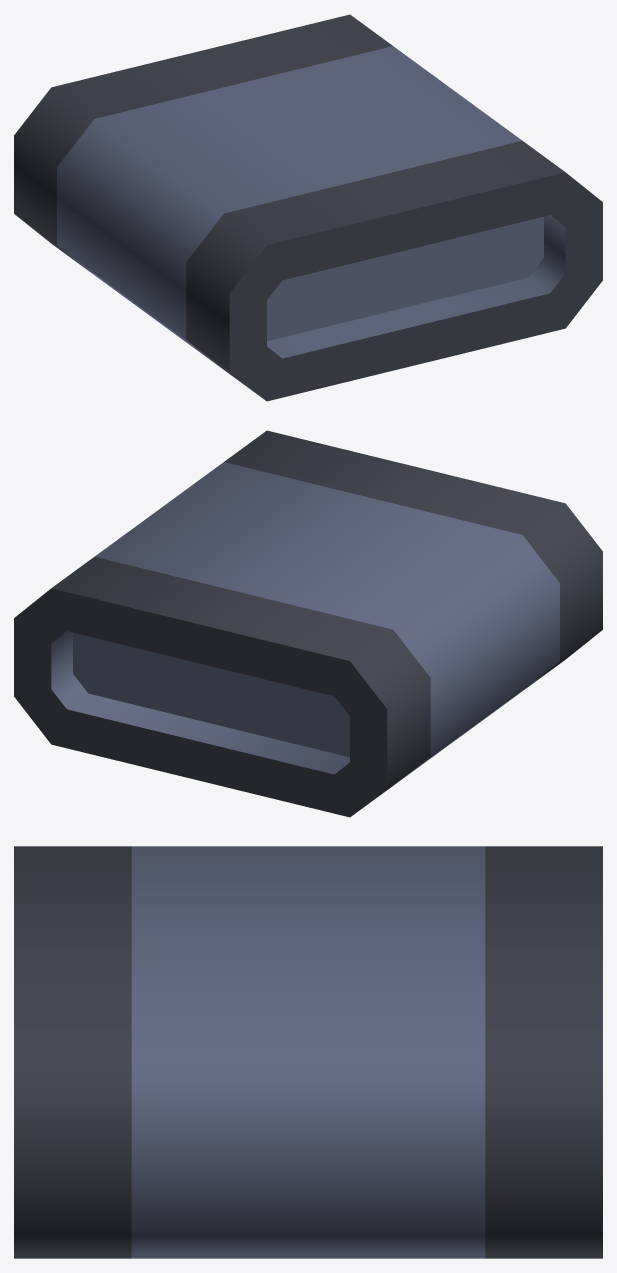
File: ConveyorStripe-transformed.glb
3 renders of one model, top to bottom at view 1: azimuth 30°, elevation 25°; view 2: azimuth 150°, elevation 25°; view 3: azimuth 270°, elevation 25°, orthographic. The views are drawn at different scales.
Visible parts, largest first — view 1: conveyor-stripe; view 2: conveyor-stripe; view 3: conveyor-stripe.
Boxes of the visible parts, <box> form: conveyor-stripe: <box>14,14,602,401</box>; conveyor-stripe: <box>14,430,602,817</box>; conveyor-stripe: <box>14,846,602,1258</box>.
Size of the model in its own units: 1 by 0.4 by 1.
